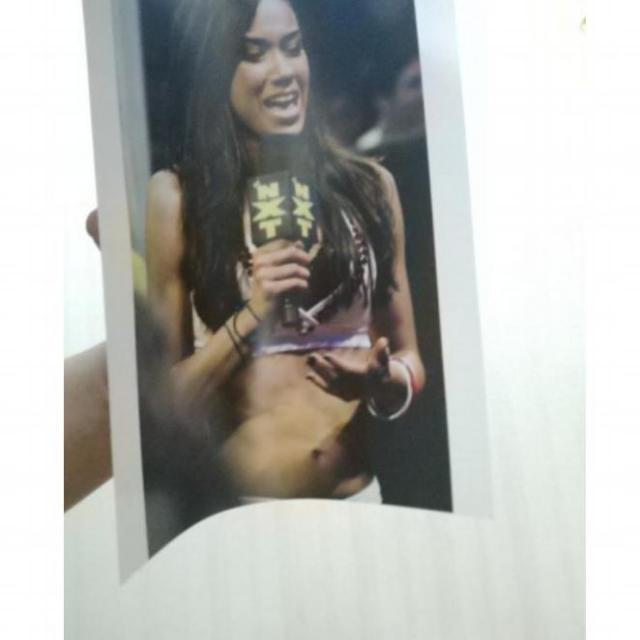photo: (70, 0, 497, 588)
